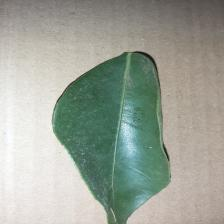healthy: (66, 58, 180, 205)
